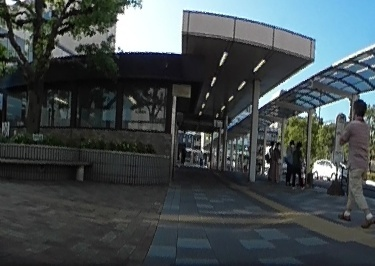person: (335, 96, 375, 226), (290, 139, 304, 189), (284, 136, 295, 186), (271, 139, 282, 182)
